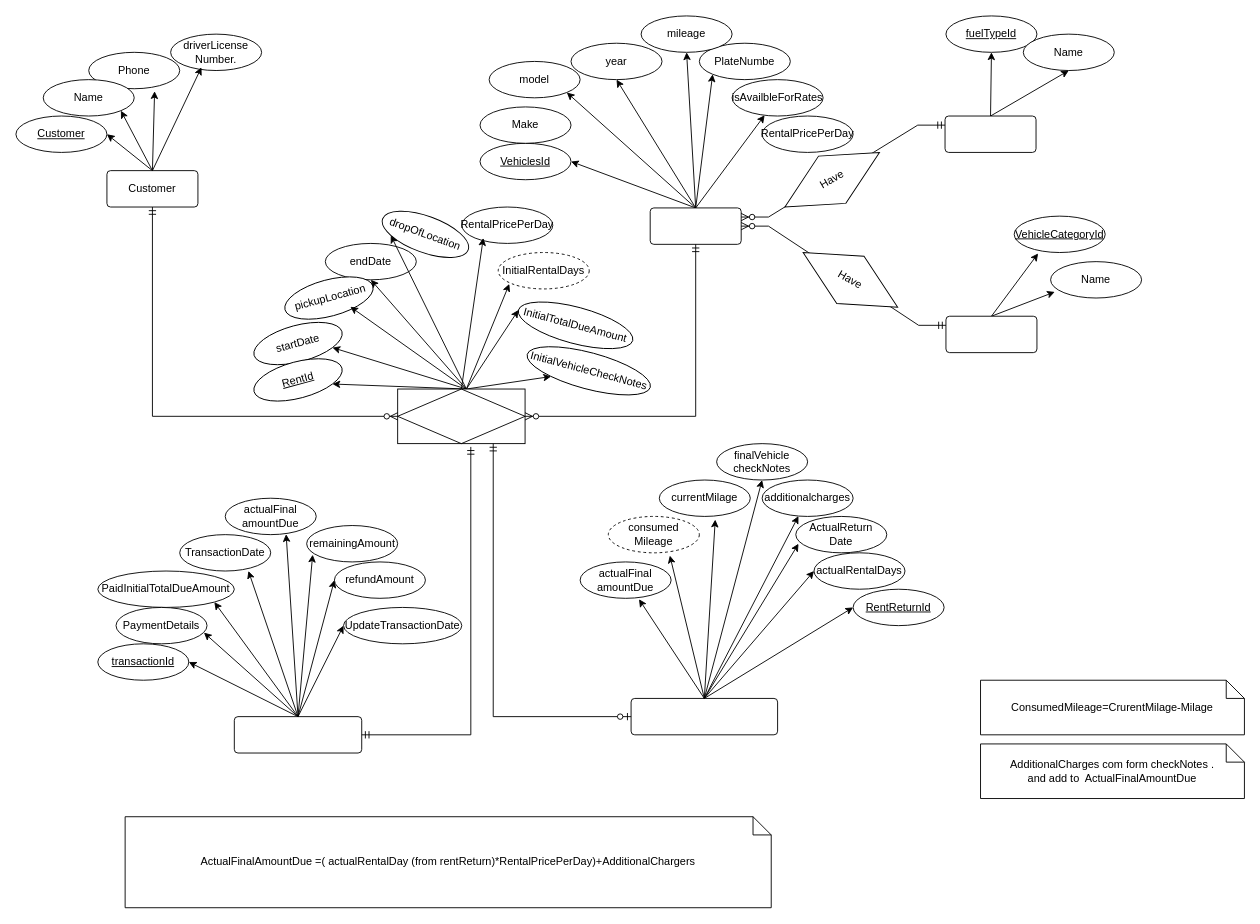
This 1260x924 diagram has some shape labels left out. The centre of each missing label's shape, as x and y in pixels:
fuelType: the point at 990,133
RentBooking: the point at 461,416
RentReturn: the point at 704,716
transaction: the point at 297,734
VehicleCategory: the point at 991,334
Vehicles: the point at 695,225
